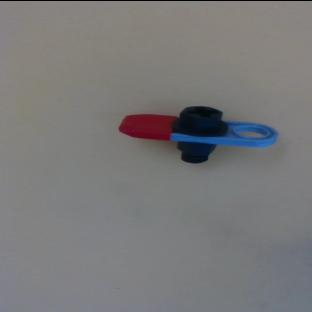part_1_good: (117, 97, 280, 169)
